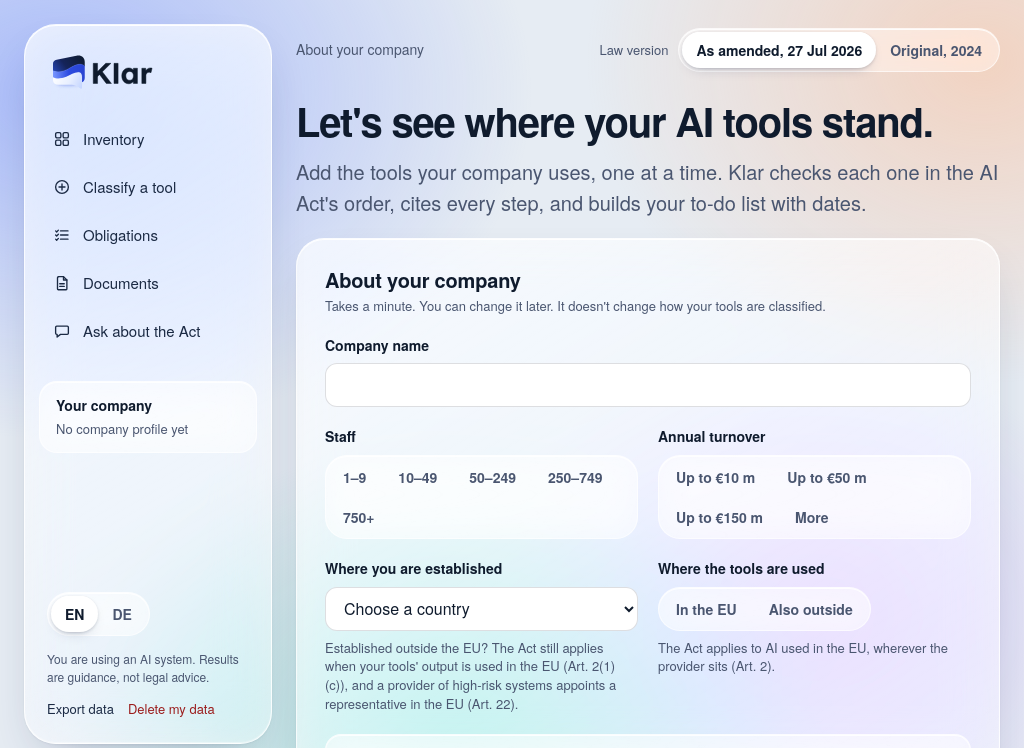
it: Welcome, the derived size line › names neither above the small mid-cap bands, with the balance-sheet caveats
expect the heading "Let's see where your AI tools stand." is shown: met, box [296,96,1000,146]
Click the button "1–9" at (355, 477), box [329,459,380,495]
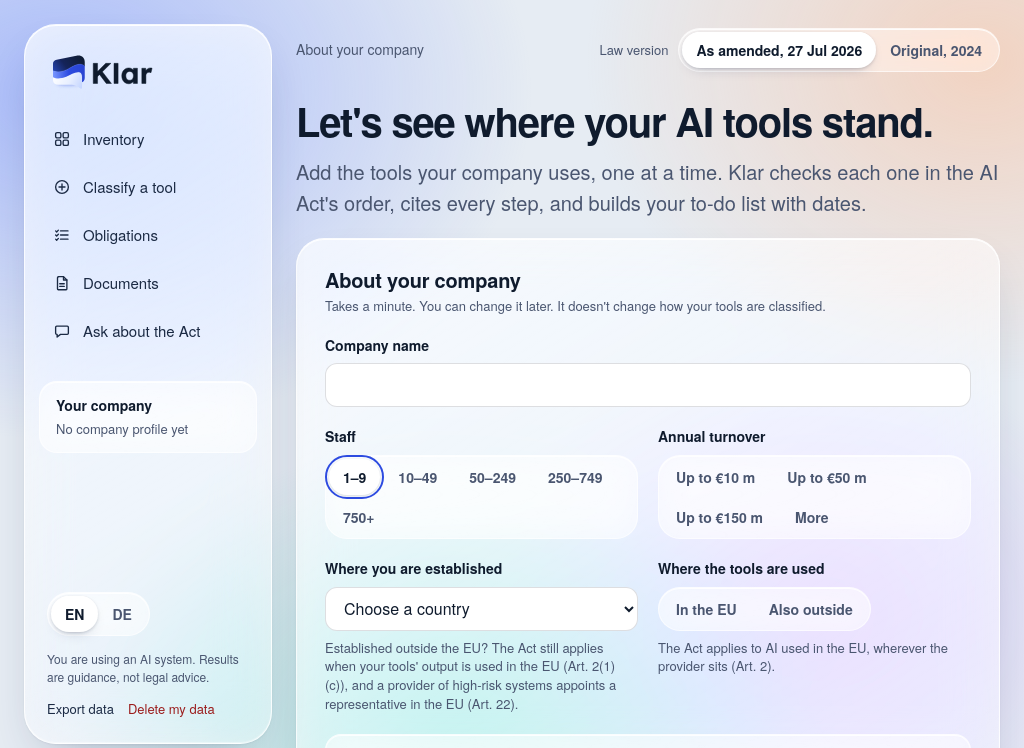
Click the button "More" at (812, 517), box [781,499,843,535]
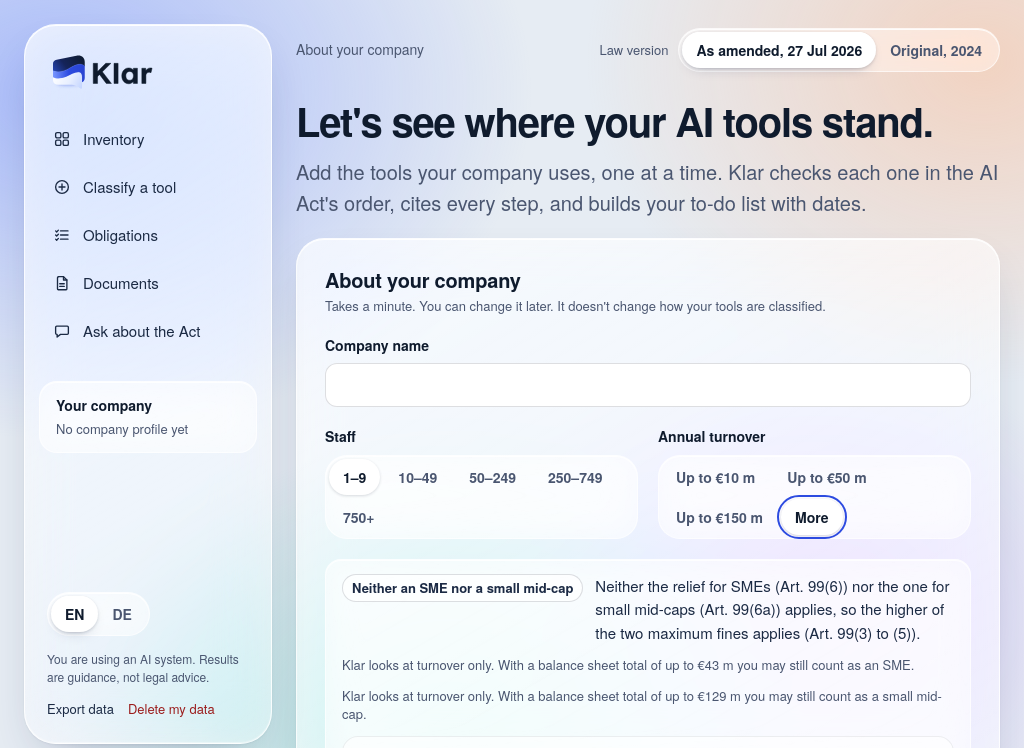
expect the text "Neither an SME nor a small mid-cap" is shown: met, box [342,574,583,602]
expect the text "Art. 99(3) to (5)" is shown: met, box [595,575,949,642]
expect the text "may still count as an SME" is shown: met, box [342,655,914,674]
Click the button "250–749" at (575, 477), box [534,459,616,495]
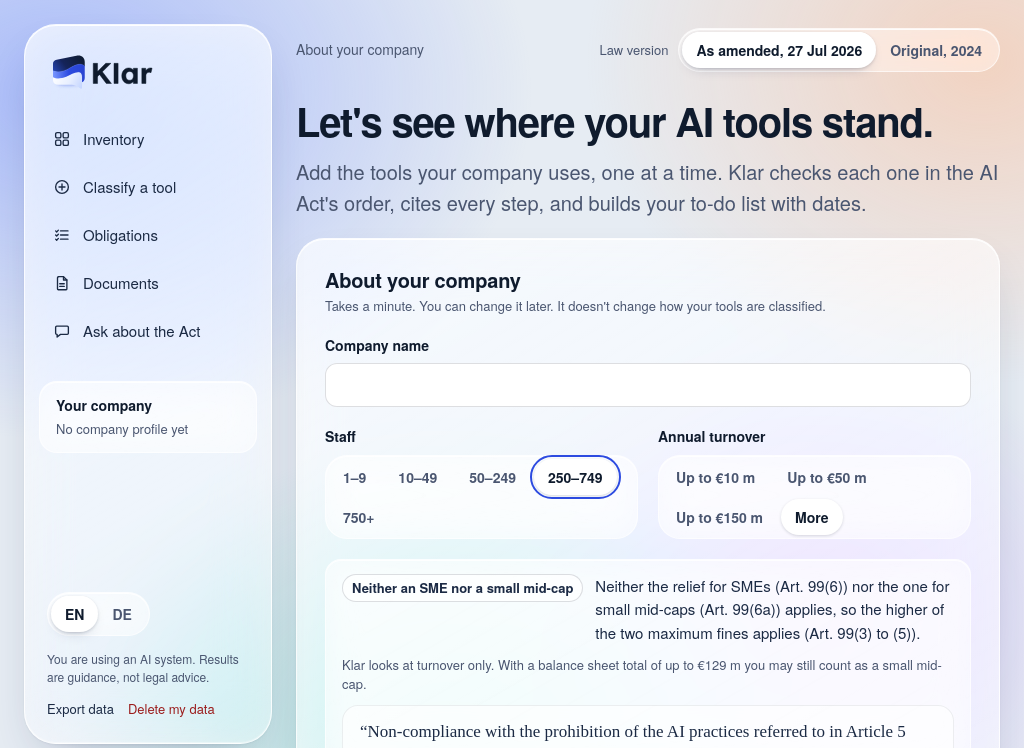
expect the text "may still count as a small mid-cap" is shown: met, box [342,655,942,693]
expect the text "may still count as an SME" is gone: met
Click the button "750+" at (359, 517), box [329,499,388,535]
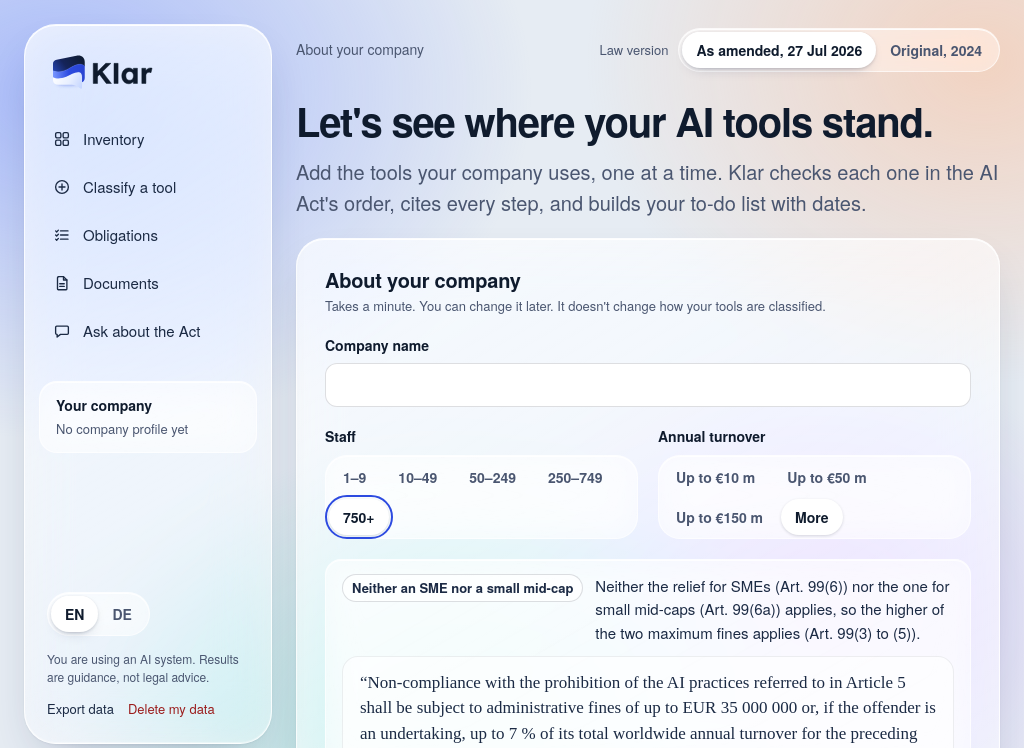
expect the text "may still count" is gone: met
